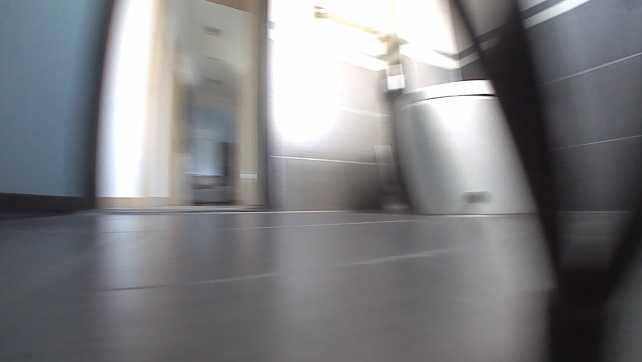toilet: (388, 77, 535, 215)
